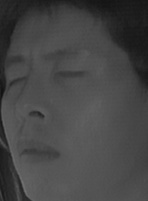blink: (53, 62, 89, 84), (3, 71, 30, 91)
mouth: (12, 134, 64, 169)
